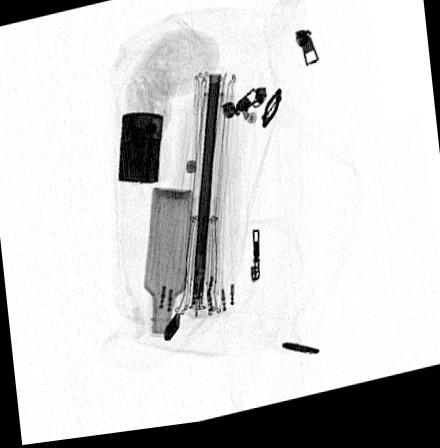Lighter: (117, 116, 162, 188)
